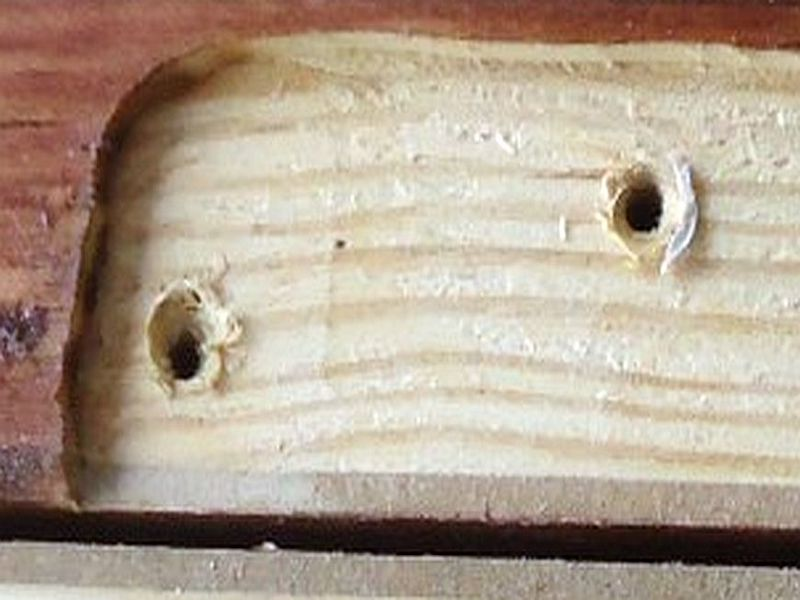hole: (156, 326, 209, 388), (619, 181, 672, 238)
